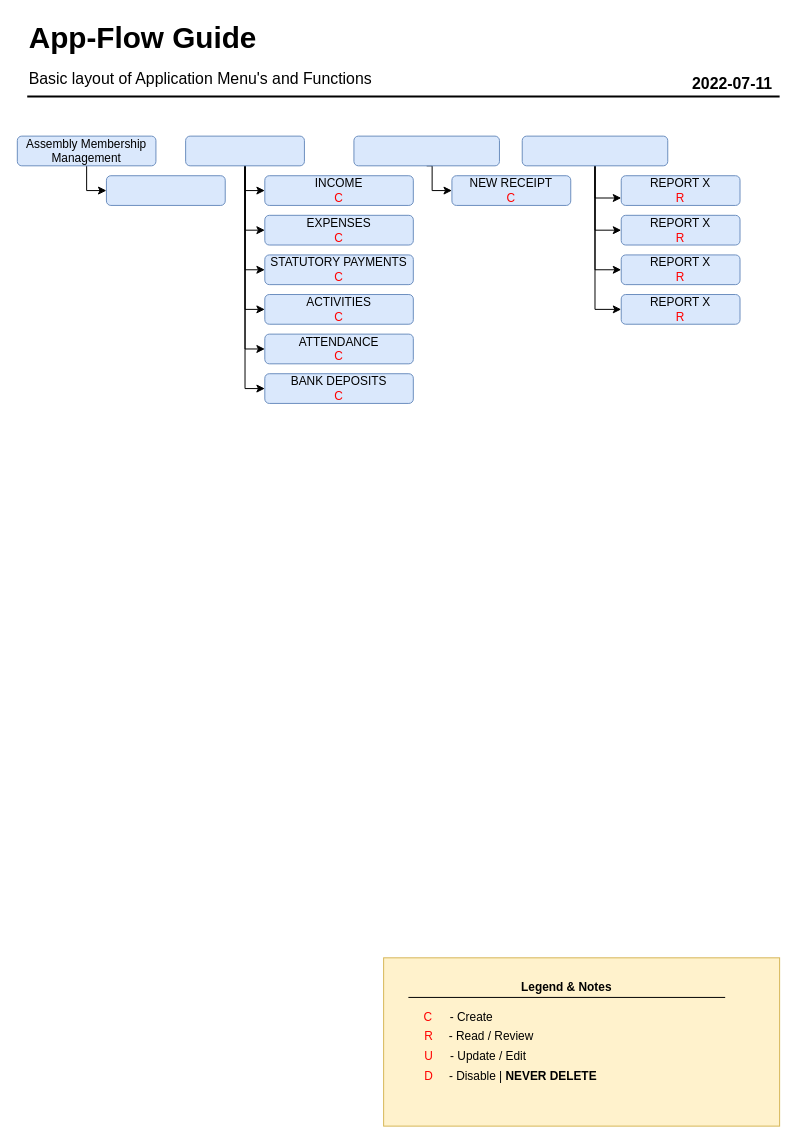
Image size: 807x1143. Some labels were removed from this diagram. The shapes that lost their labels are listed below. From the top down, each one's box as (x1, y1, x2, y2) in pixels, then its label:
(185, 135, 304, 166): Weekly Assembly Report
(353, 135, 499, 166): Assembly Receipts Management
(521, 135, 668, 166): Assembly Reports
(105, 175, 225, 205): MEMBER C.R.U.D
